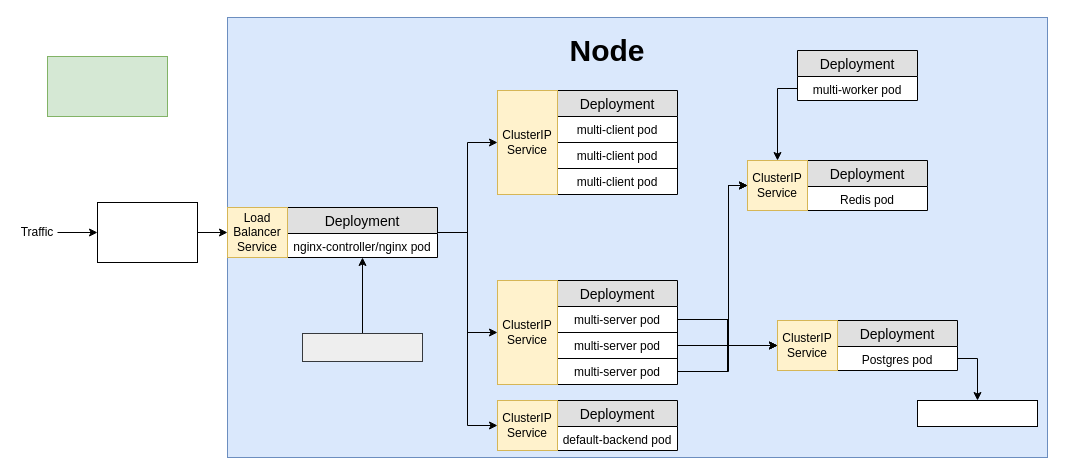
Image size: 1065x475. Some labels were removed from this diagram. Each missing label, with the box of its shape:
Google Cloud Load Balancer: (96, 202, 198, 262)
Ingress Config: (302, 332, 422, 362)
Ingress-Nginx on Google Cloud: (46, 56, 168, 116)
Postgres PVC: (916, 400, 1038, 426)
